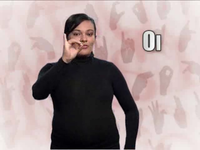oi: (60, 33, 83, 62)
